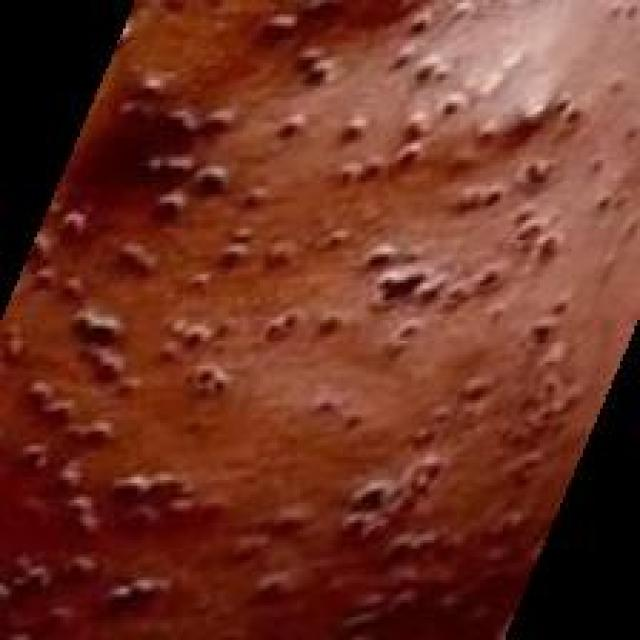monkeypox: (53, 7, 613, 640)
